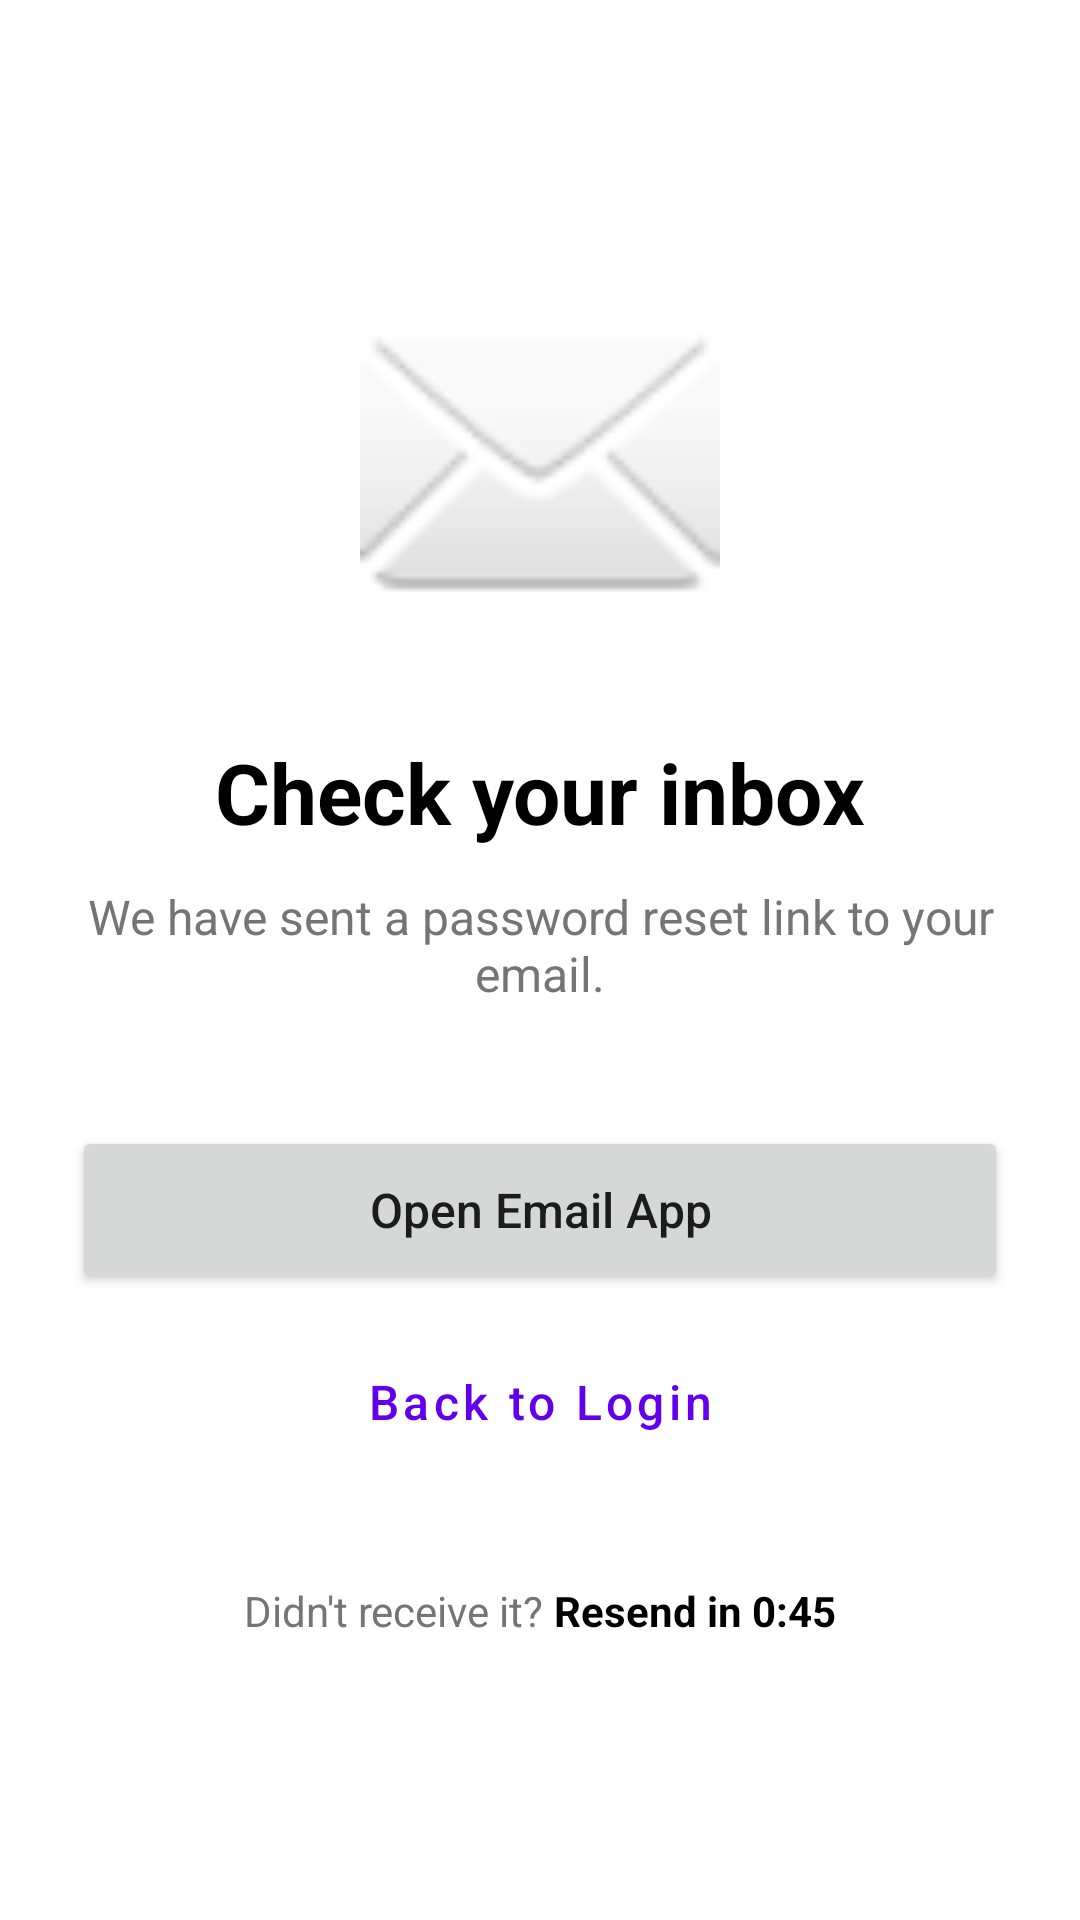

Icon click points for this 1080×1920 phone screenshot, format (x=x, y=y):
Email Icon: (x=540, y=466)
